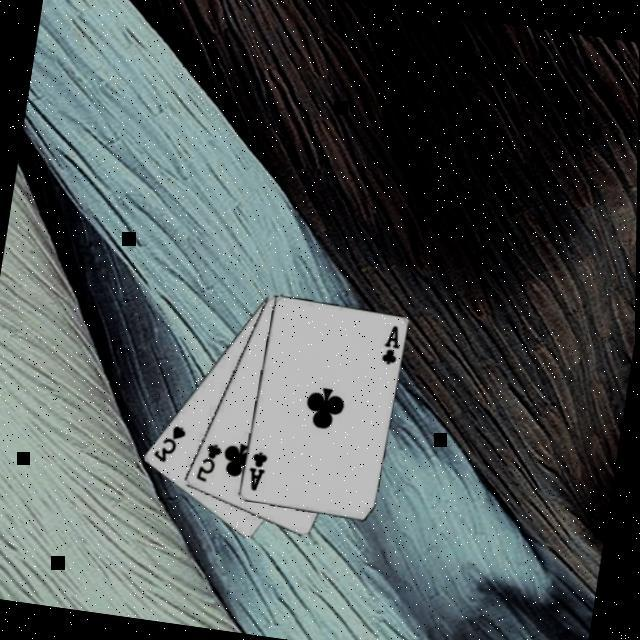3S: (148, 421, 189, 468)
5C: (192, 440, 225, 487)
AC: (242, 449, 270, 495), (377, 323, 404, 369)
